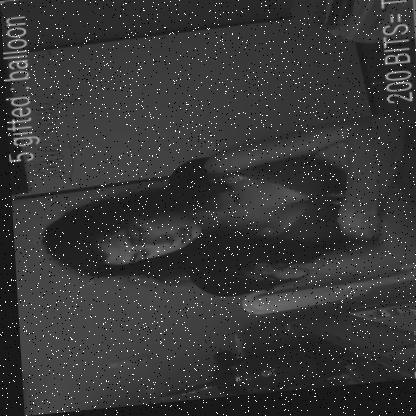streamer: (31, 118, 416, 313)
